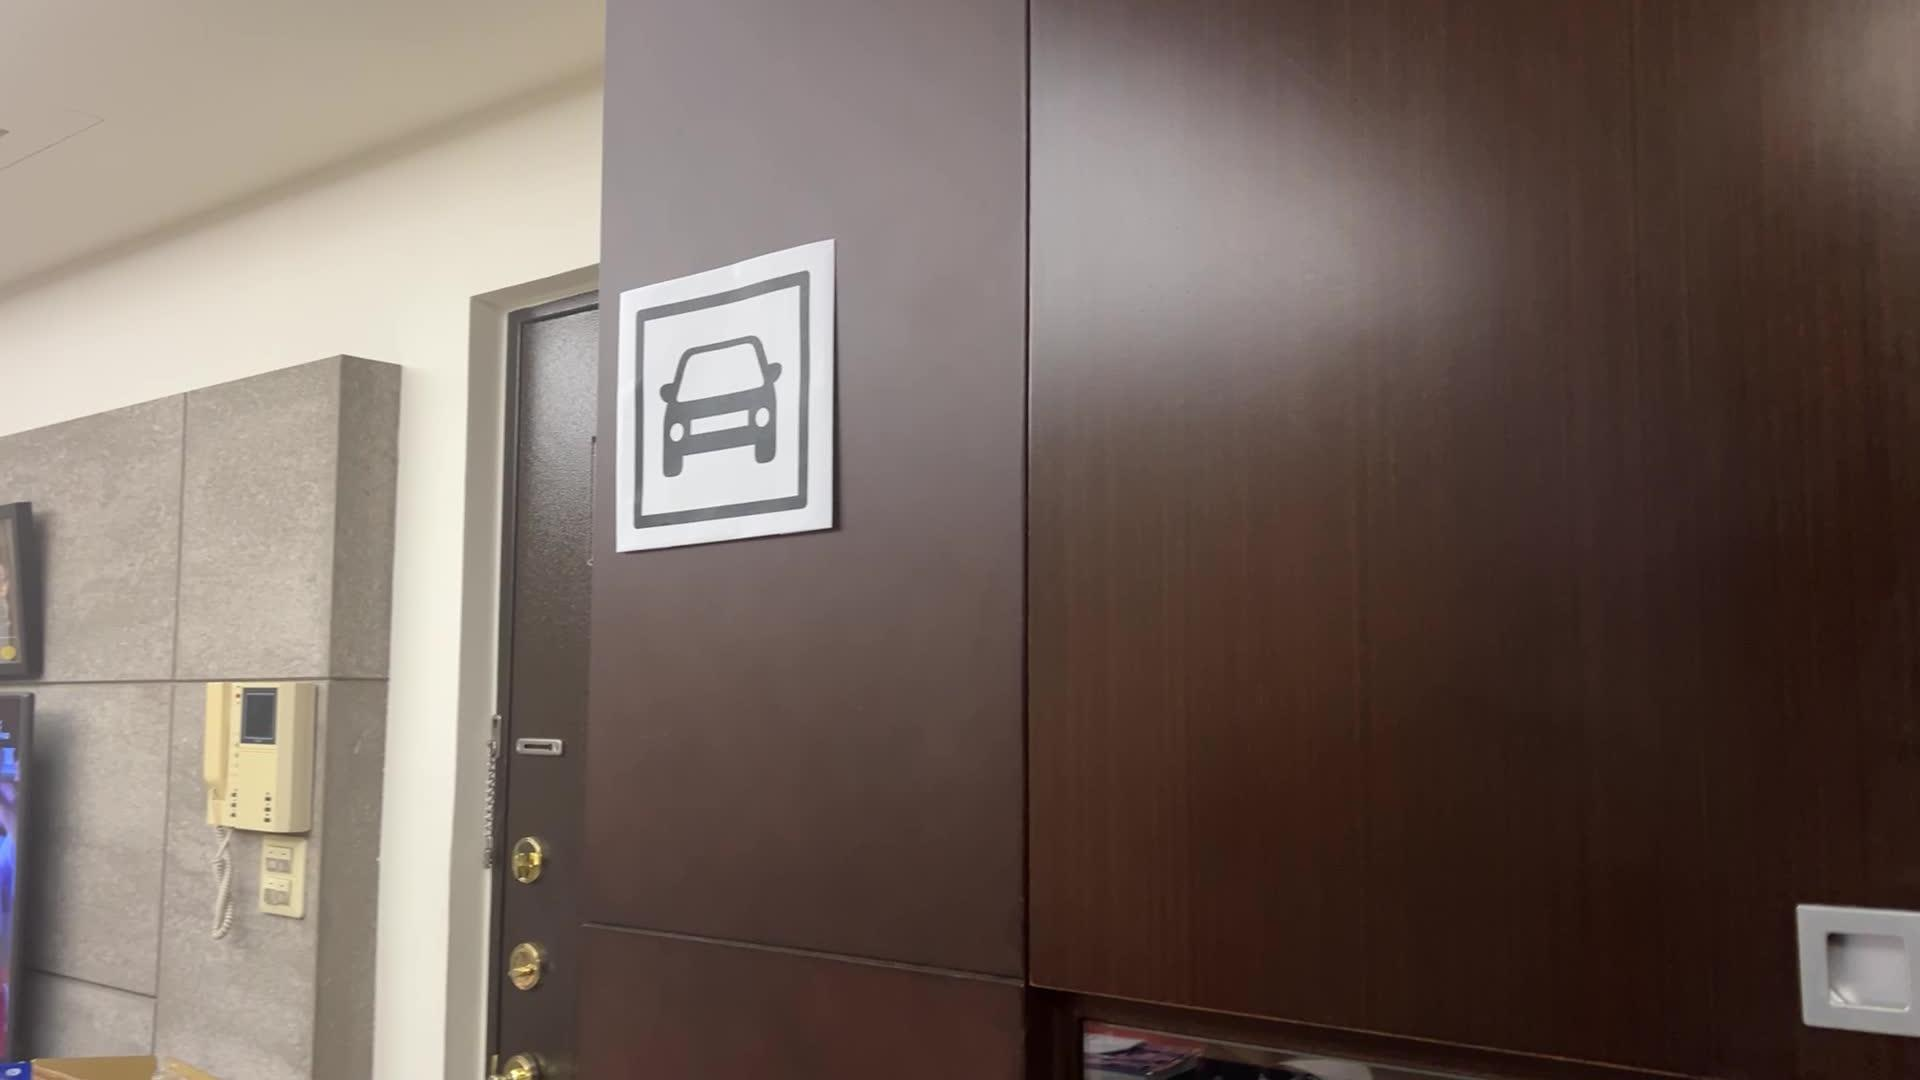car_img: (626, 261, 818, 537)
